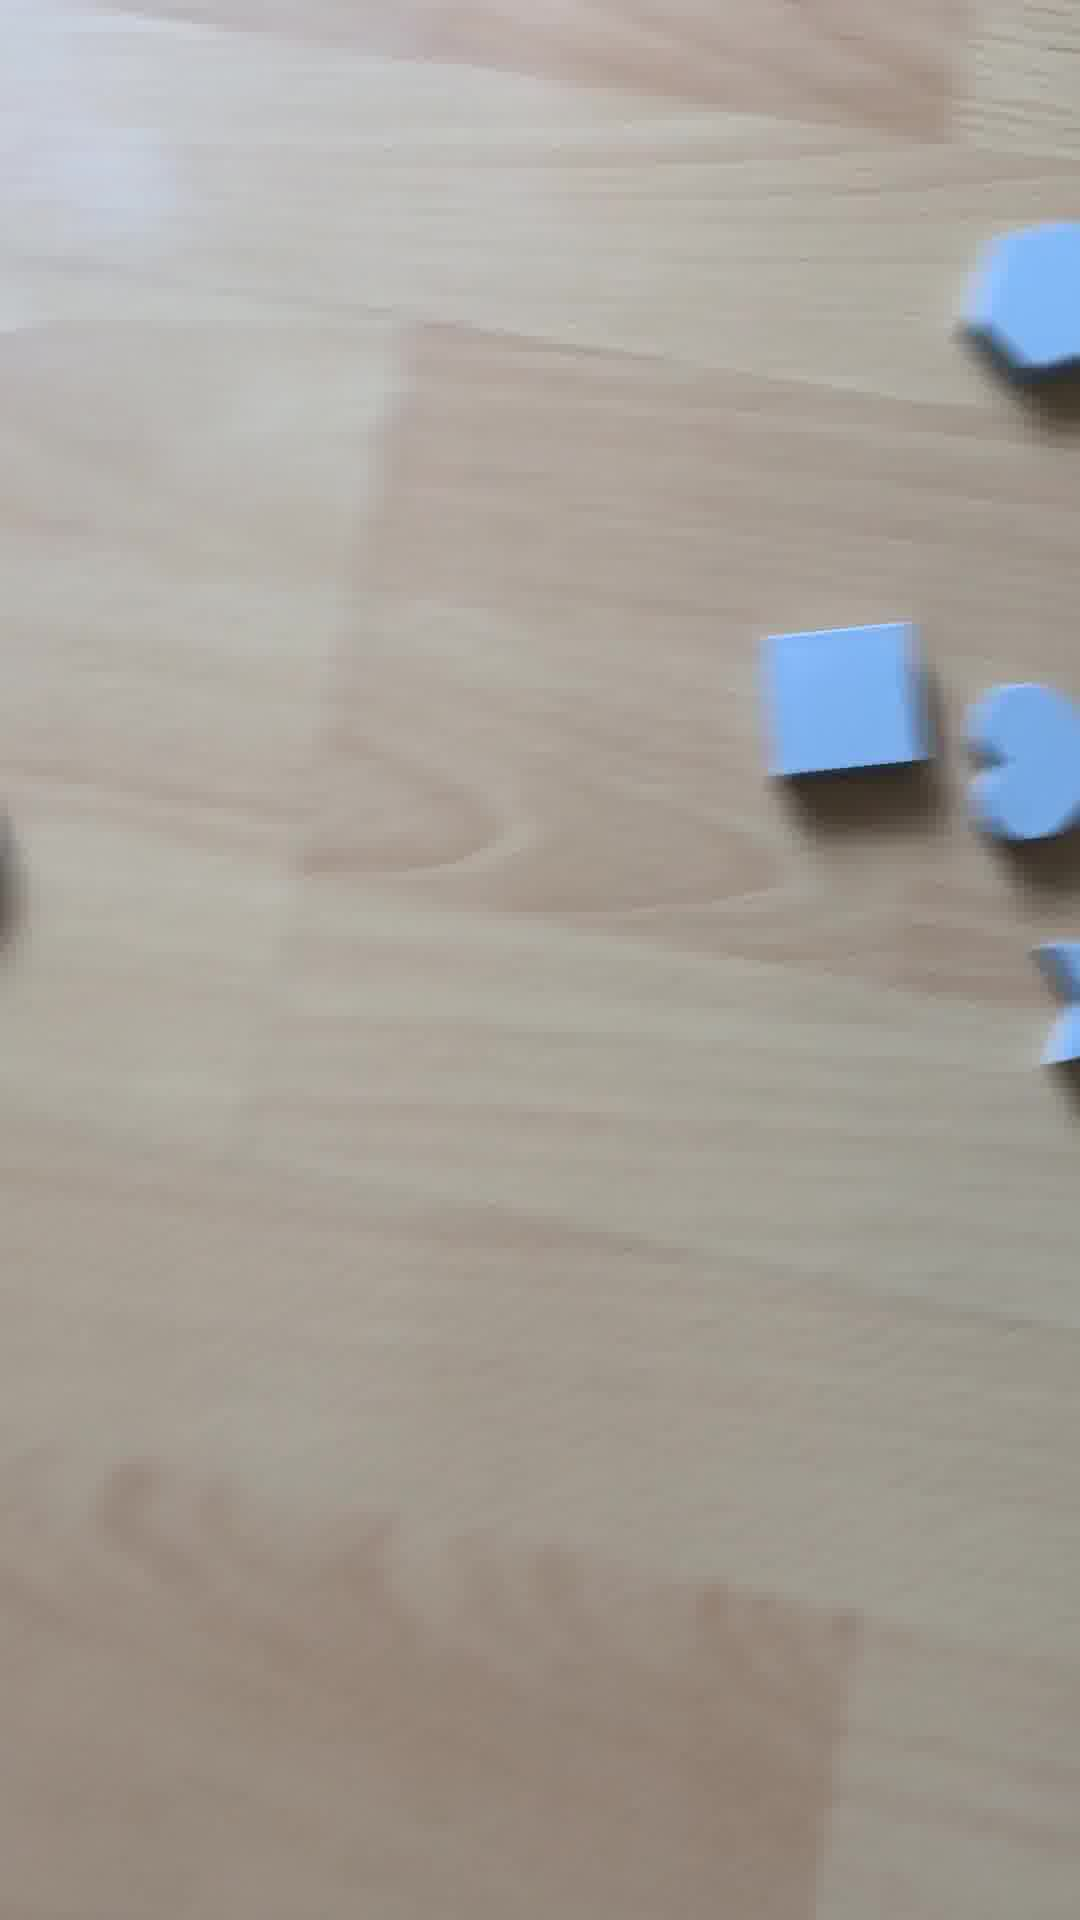Gray heart: (957, 675, 1080, 857)
Gray hexagon: (968, 212, 1080, 406)
Gray square: (752, 620, 927, 791)
